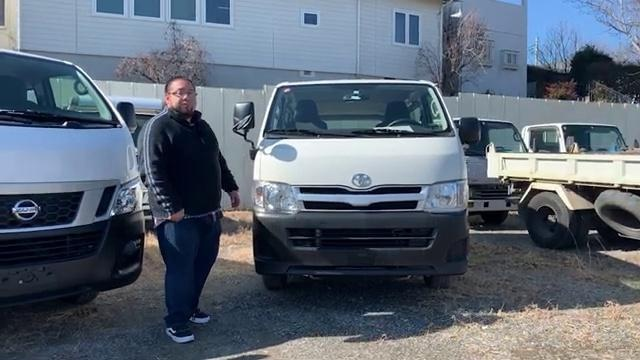van: (240, 74, 469, 285)
